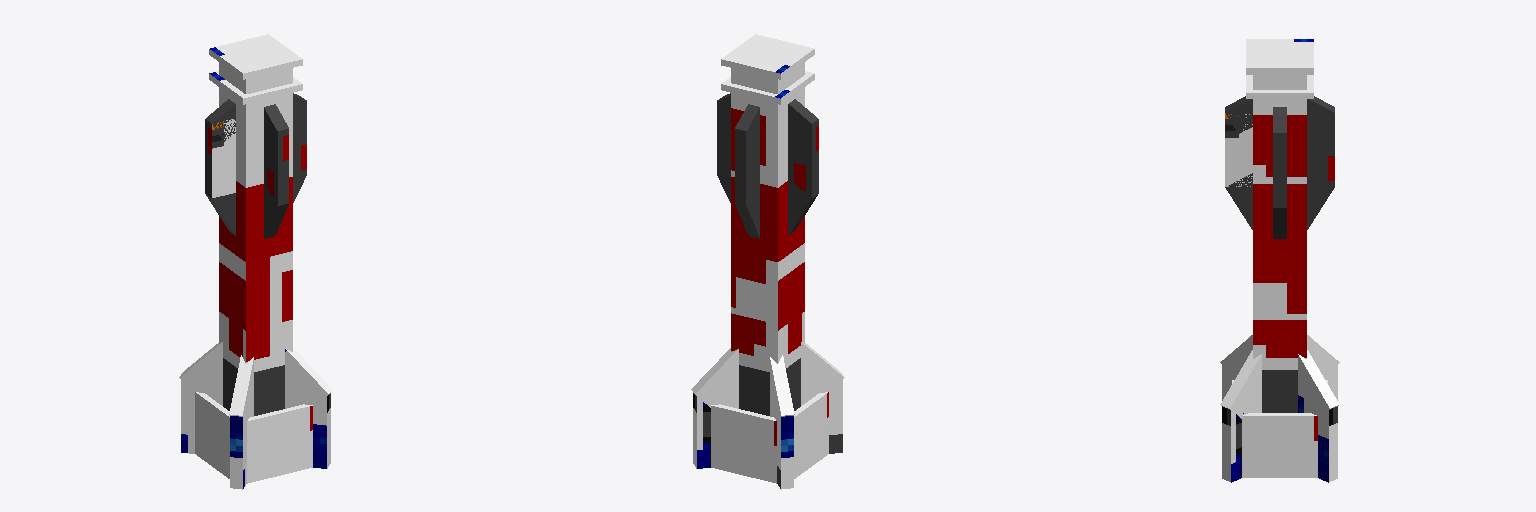
The picture shows the model from 3 angles: view 1: azimuth 30°, elevation 25°; view 2: azimuth 150°, elevation 25°; view 3: azimuth 270°, elevation 25°; orthographic projection.
Parts seen in each view (by area): view 1: group_0, Component_24, Component_25, Component_22, Component_29, Component_21, Component_27, Component_26; view 2: group_0, Component_24, Component_22, Component_25, Component_29, Component_21, Component_27, Component_26; view 3: group_0, Component_24, Component_25, Component_22, Component_21, Component_29, Component_27, Component_26.
Part boxes in pixels (left/top/right/bottom): group_0: left=219, top=62, right=292, bottom=415; Component_24: left=195, top=392, right=312, bottom=483; Component_25: left=205, top=101, right=306, bottom=205; Component_22: left=179, top=342, right=332, bottom=418; Component_29: left=209, top=34, right=302, bottom=104; Component_21: left=181, top=380, right=330, bottom=489; Component_27: left=206, top=171, right=305, bottom=238; Component_26: left=206, top=93, right=306, bottom=147; group_0: left=731, top=62, right=804, bottom=415; Component_24: left=711, top=392, right=828, bottom=483; Component_22: left=691, top=342, right=844, bottom=423; Component_25: left=717, top=101, right=818, bottom=205; Component_29: left=721, top=34, right=814, bottom=104; Component_21: left=693, top=379, right=842, bottom=489; Component_27: left=718, top=171, right=817, bottom=238; Component_26: left=717, top=93, right=817, bottom=146; group_0: left=1253, top=75, right=1306, bottom=412; Component_24: left=1232, top=380, right=1327, bottom=477; Component_25: left=1225, top=113, right=1334, bottom=207; Component_22: left=1220, top=335, right=1339, bottom=418; Component_21: left=1222, top=364, right=1337, bottom=482; Component_29: left=1246, top=39, right=1313, bottom=98; Component_27: left=1225, top=173, right=1334, bottom=238; Component_26: left=1225, top=96, right=1334, bottom=133.
Size of the model in its own units: 110 by 409 by 110.
1 materials, 1 textured.